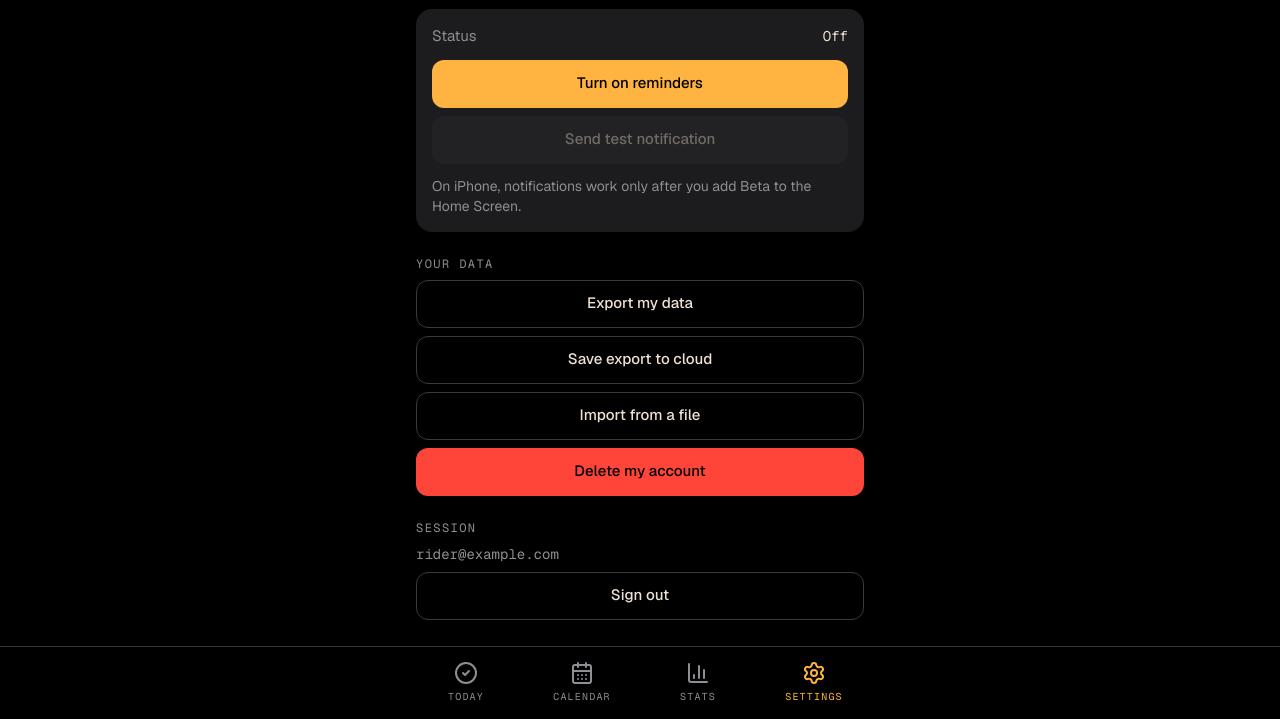
Test: Settings › cloud export › passes on the rate-limit message and leaves the button on
This screenshot has width=1280, height=719.
(page scrolled)
Click the 4th button named "Save export to cloud" at (640, 360), box [416,336,864,384]
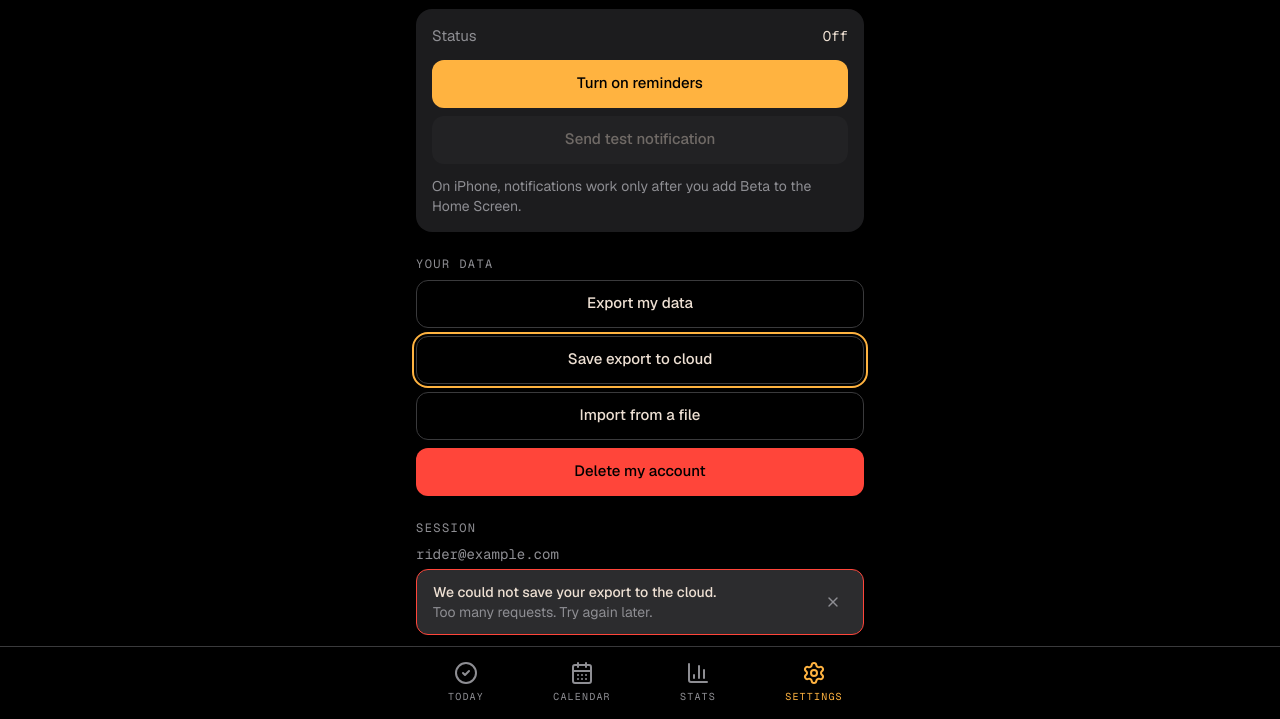
Check: the text "We could not save your export to the cloud." is shown, box [433,583,716,601]
Check: the text "Too many requests. Try again later." is shown, box [433,603,652,621]
